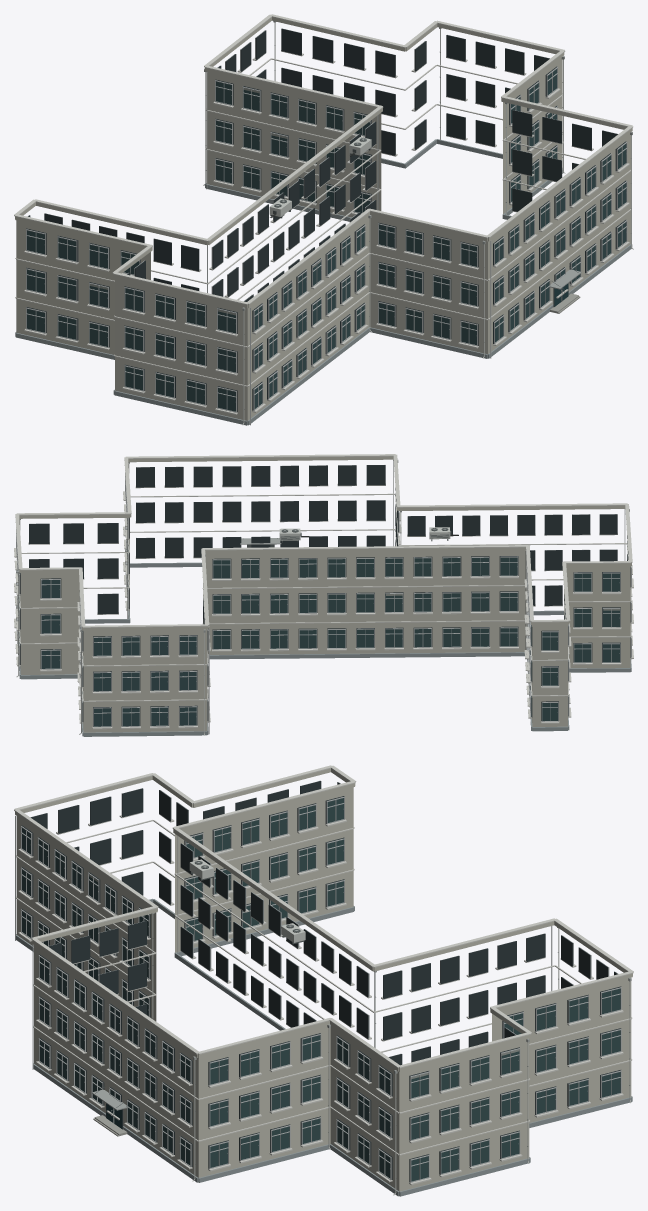
File: osm_way_223944209.glb
3 views of the same model, one above another, from view 1: azimuth 30°, elevation 25°; view 2: azimuth 150°, elevation 25°; view 3: azimuth 270°, elevation 25° (orthographic). The views are drawn at different scales.
Visible parts, largest first — view 1: Architecture | 大学生活动中心, Windows and facade details | 大学生活动中心, Roof services | 大学生活动中心, EXTERIOR::osm_way_223944209::rainwater and roof service deta, EXTERIOR::osm_way_223944209::inferred entry doors canopy and; view 2: Architecture | 大学生活动中心, Windows and facade details | 大学生活动中心, Roof services | 大学生活动中心, EXTERIOR::osm_way_223944209::rainwater and roof service deta; view 3: Windows and facade details | 大学生活动中心, Architecture | 大学生活动中心, Roof services | 大学生活动中心, EXTERIOR::osm_way_223944209::rainwater and roof service deta, EXTERIOR::osm_way_223944209::inferred entry doors canopy and.
Part boxes in pixels (left/top/right/bottom): Architecture | 大学生活动中心: left=15, top=17, right=632, bottom=425; Windows and facade details | 大学生活动中心: left=24, top=28, right=629, bottom=425; Roof services | 大学生活动中心: left=14, top=14, right=633, bottom=304; EXTERIOR::osm_way_223944209::rainwater and roof service deta: left=203, top=21, right=633, bottom=425; EXTERIOR::osm_way_223944209::inferred entry doors canopy and: left=549, top=266, right=581, bottom=313; Architecture | 大学生活动中心: left=16, top=456, right=631, bottom=736; Windows and facade details | 大学生活动中心: left=14, top=459, right=633, bottom=734; Roof services | 大学生活动中心: left=15, top=454, right=632, bottom=627; EXTERIOR::osm_way_223944209::rainwater and roof service deta: left=16, top=460, right=629, bottom=735; Windows and facade details | 大学生活动中心: left=15, top=780, right=623, bottom=1184; Architecture | 大学生活动中心: left=15, top=768, right=632, bottom=1196; Roof services | 大学生活动中心: left=14, top=765, right=633, bottom=1068; EXTERIOR::osm_way_223944209::rainwater and roof service deta: left=151, top=859, right=631, bottom=1195; EXTERIOR::osm_way_223944209::inferred entry doors canopy and: left=92, top=1086, right=127, bottom=1136.
Size of the model in its own units: 73.11 by 15.48 by 63.38.
